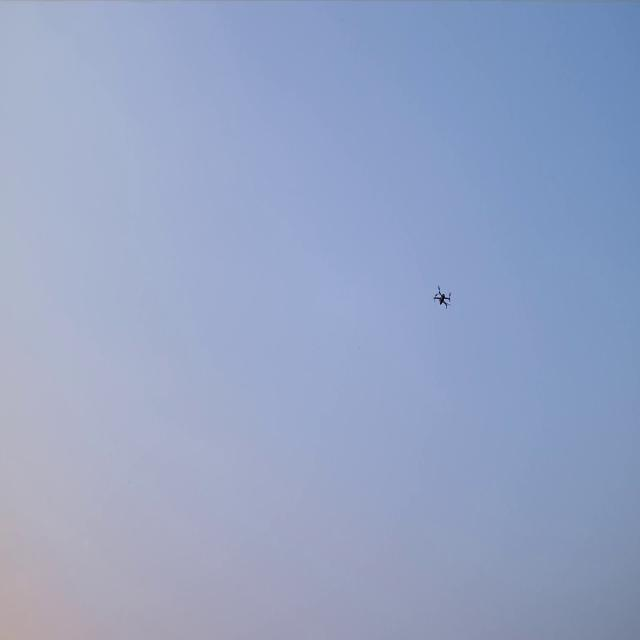UAV: (432, 282, 453, 310)
